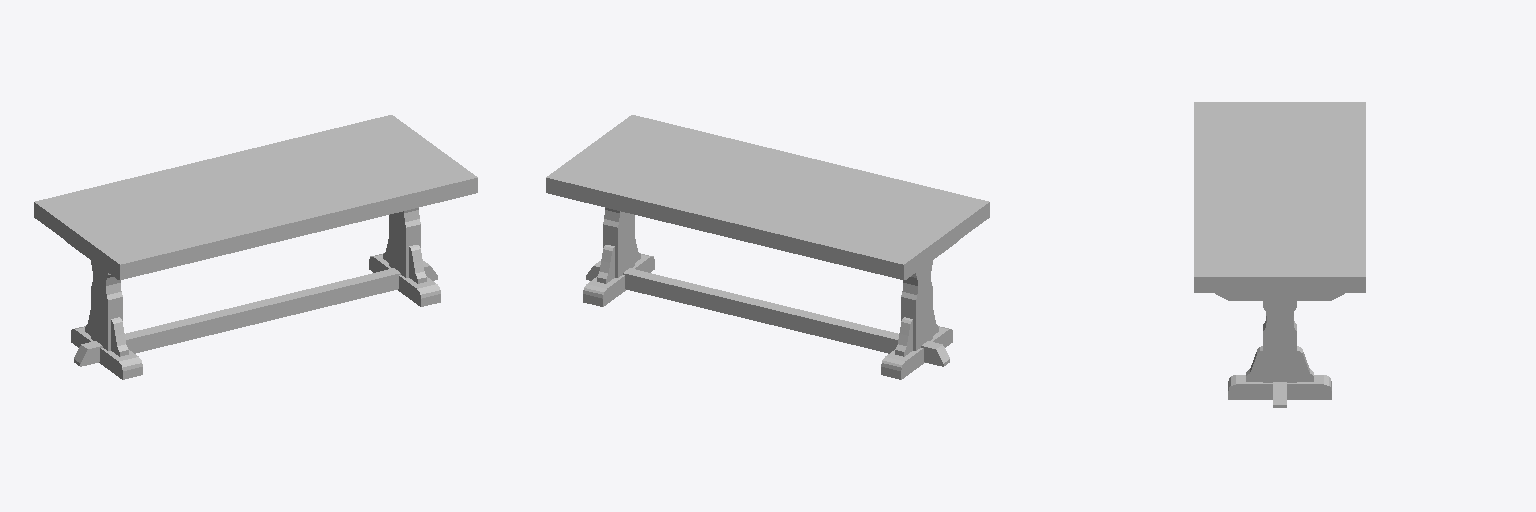
File: trn_TableLong.obj
The picture shows the model from 3 angles: view 1: azimuth 30°, elevation 25°; view 2: azimuth 150°, elevation 25°; view 3: azimuth 270°, elevation 25°; orthographic projection.
Parts seen in each view (by area): view 1: trn_TableLong_Cube.003; view 2: trn_TableLong_Cube.003; view 3: trn_TableLong_Cube.003.
Boxes of the visible parts, x1=… form: trn_TableLong_Cube.003: x1=34, y1=115, x2=477, y2=379; trn_TableLong_Cube.003: x1=546, y1=115, x2=989, y2=379; trn_TableLong_Cube.003: x1=1194, y1=102, x2=1365, y2=407.
Size of the model in its own units: 2.4 by 0.8502 by 1.